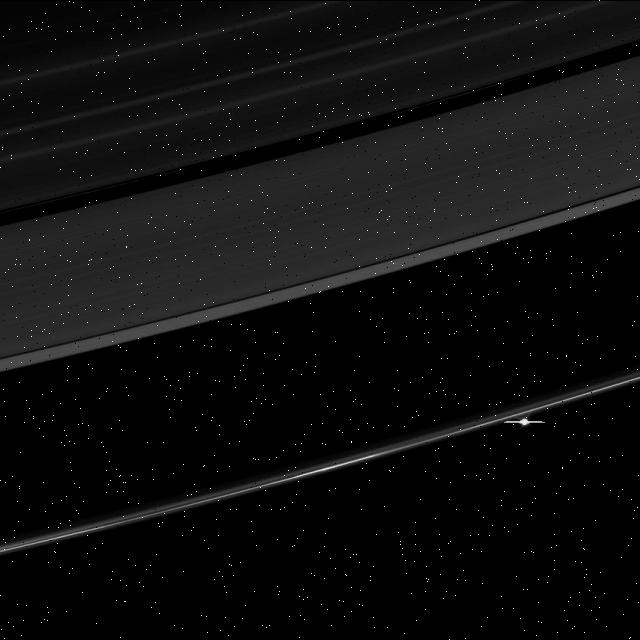Saturn: (0, 1, 640, 566)
